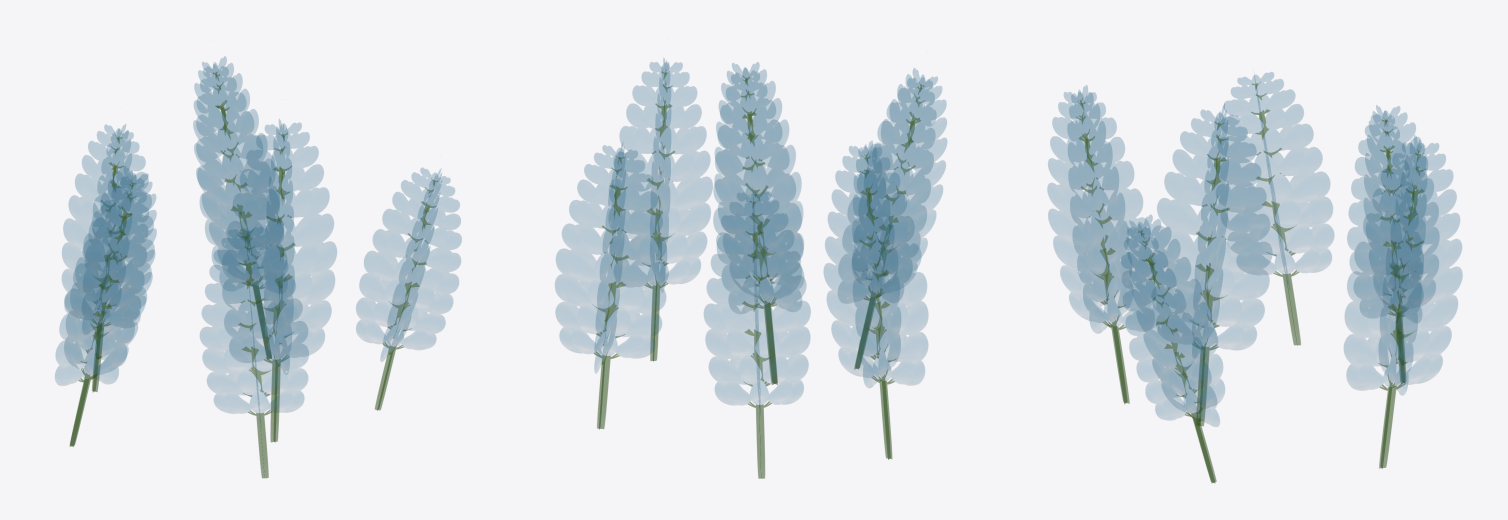
Rendered from flowers.glb.
3 renders of one model, left to right at view 1: azimuth 30°, elevation 25°; view 2: azimuth 150°, elevation 25°; view 3: azimuth 270°, elevation 25°, orthographic. The views are drawn at different scales.
Visible parts, largest first — view 1: Flowers01_LOD1; view 2: Flowers01_LOD1; view 3: Flowers01_LOD1.
Part boxes in pixels (x1,y1,x2,y2): Flowers01_LOD1: (55,56,461,478); Flowers01_LOD1: (555,58,946,478); Flowers01_LOD1: (1047,72,1462,483).
Bounding box in the file's own units: 0.5786 × 0.4654 × 0.5713.
1 material, 1 textured.
